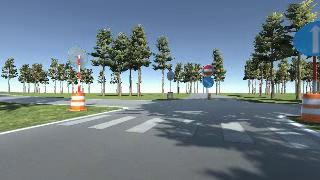go_ahead: (293, 22, 320, 57)
